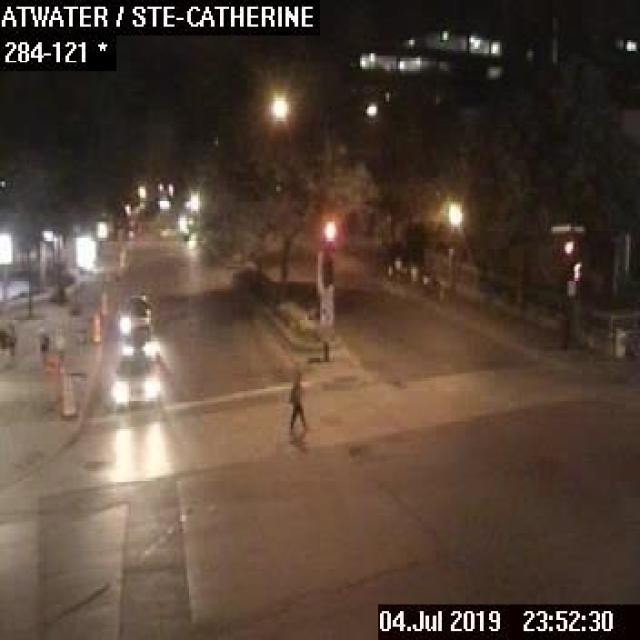construction: (58, 367, 75, 413), (89, 310, 99, 340), (98, 289, 106, 313)
pedestrian: (286, 376, 308, 438), (0, 311, 16, 360), (38, 329, 47, 367)
vehicle: (110, 354, 158, 409), (118, 322, 158, 361), (117, 293, 154, 332), (156, 224, 176, 240)
